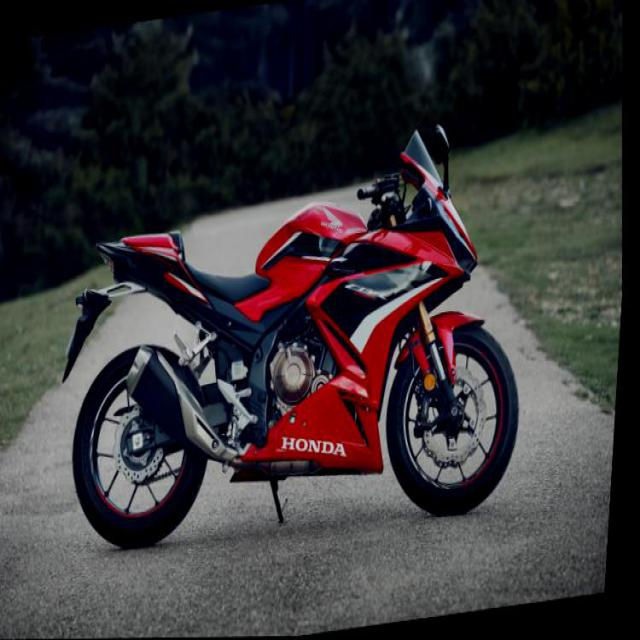CBR500R: (55, 112, 543, 570)
